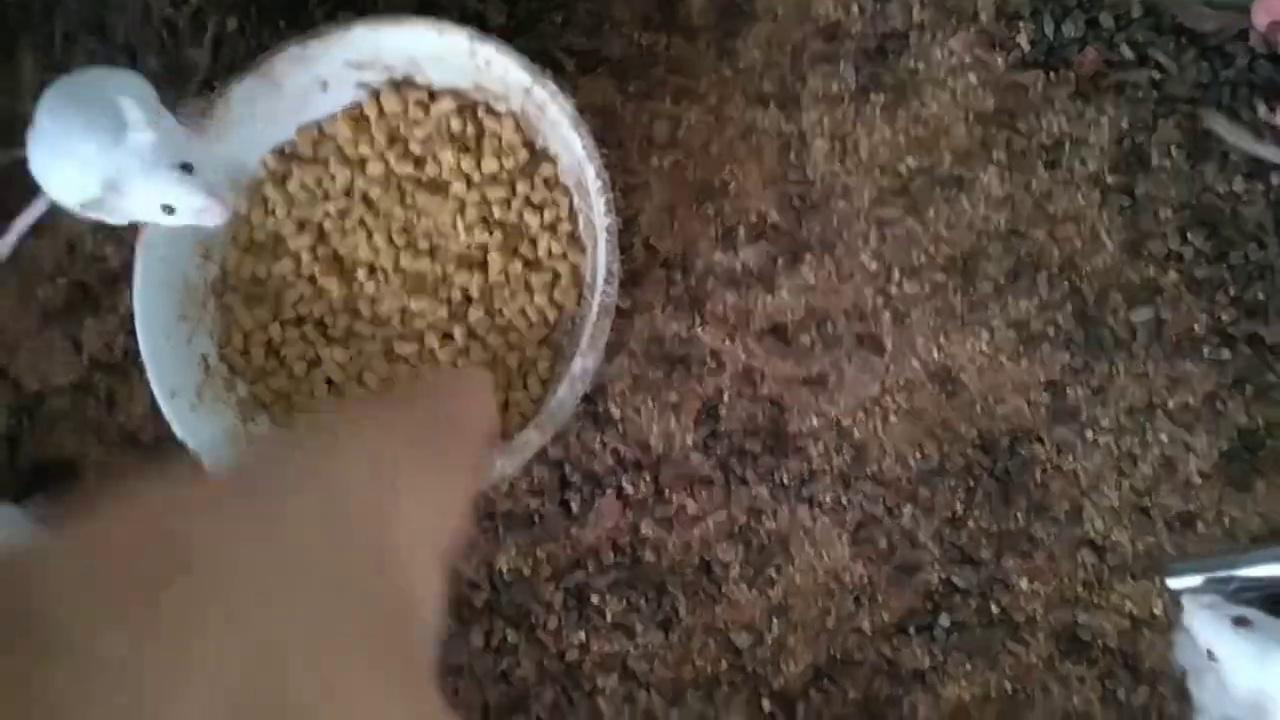rat: (0, 62, 237, 262), (1179, 589, 1280, 720)
